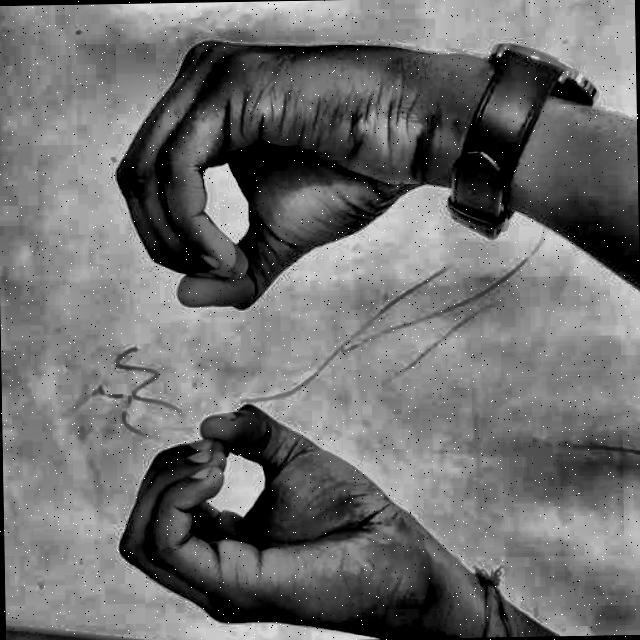Bisharga: (67, 16, 469, 640)
